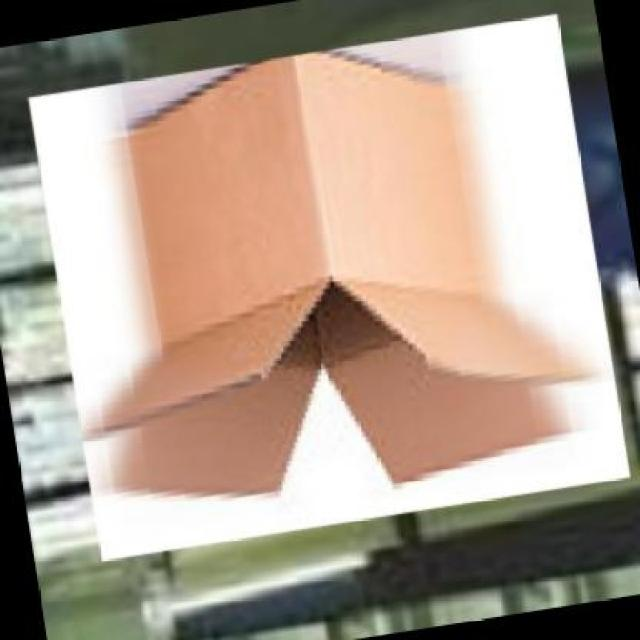box: (17, 4, 638, 568)
